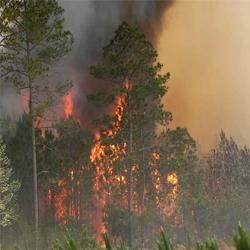fire: (94, 175, 108, 229), (109, 94, 126, 127), (88, 132, 102, 164), (61, 90, 70, 112)
